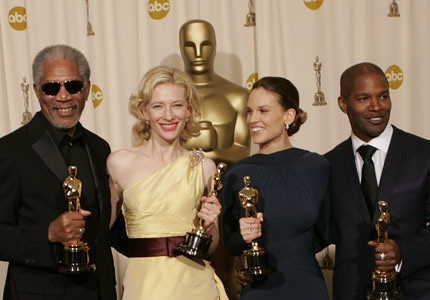bad: (37, 72, 89, 124), (146, 94, 189, 137), (237, 94, 280, 137), (352, 84, 395, 127), (175, 31, 218, 74)
